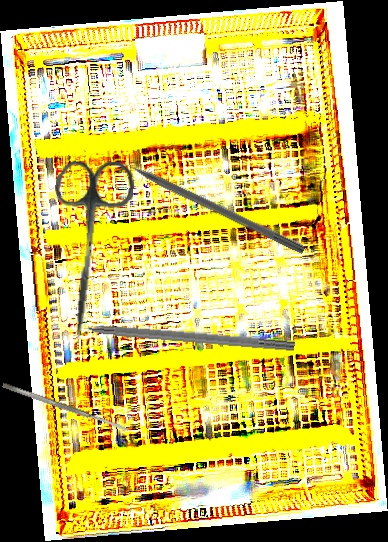Hook Surgical: (60, 317, 296, 353)
Iris Scissors: (42, 156, 136, 344)
Pusher: (106, 149, 307, 255)
Spatula Surgical: (1, 381, 130, 434)
